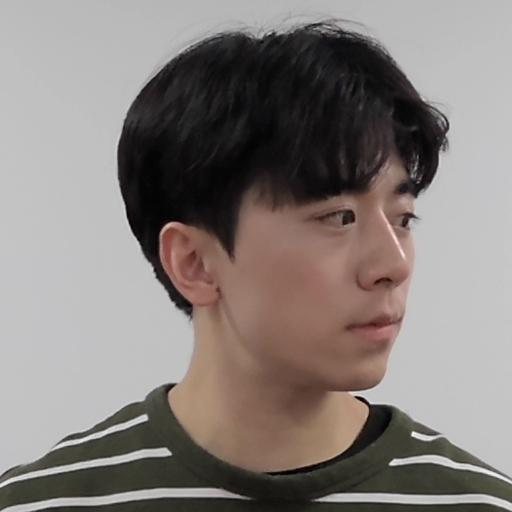no_glasses: (118, 27, 437, 405)
